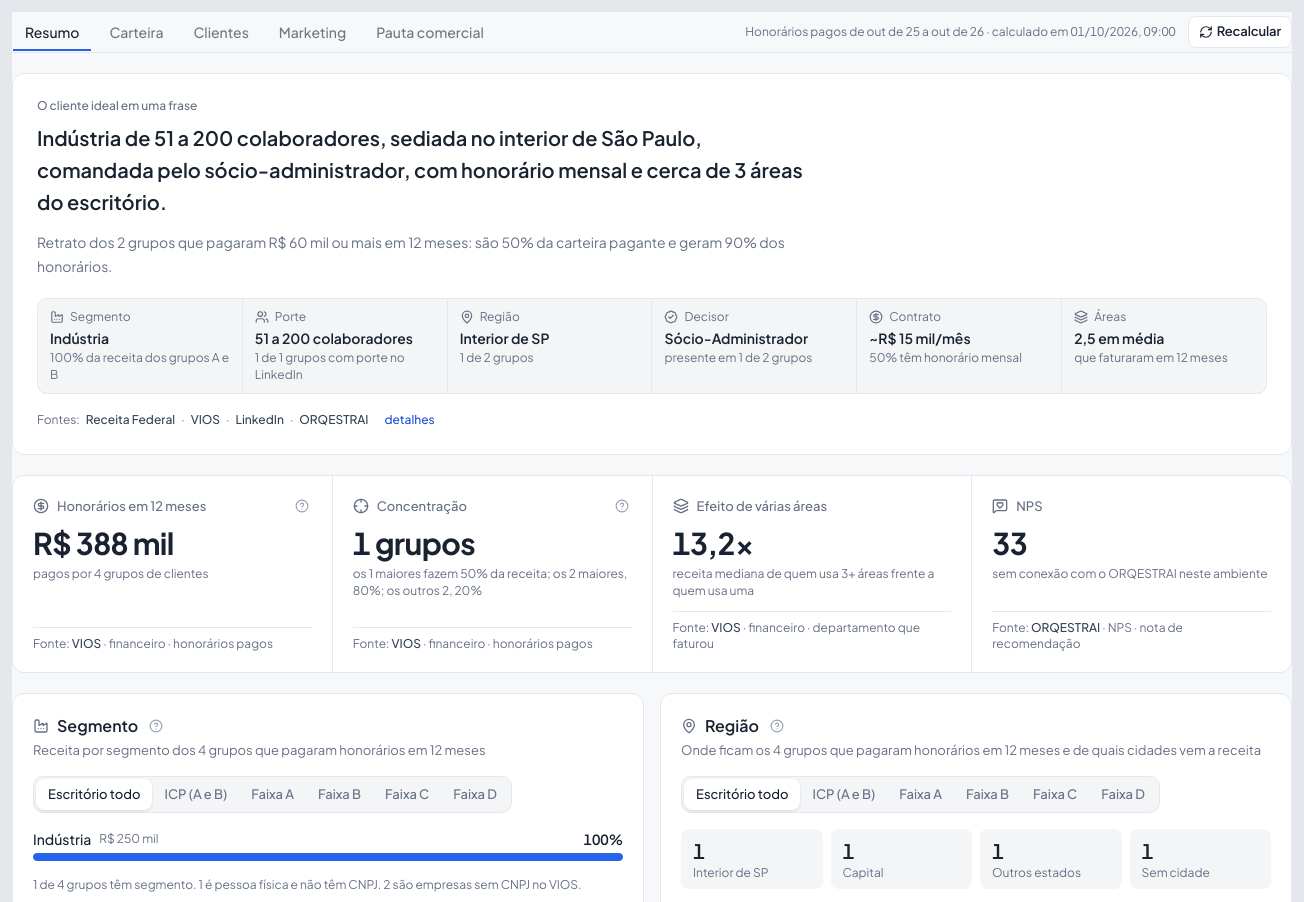
sem conexão com o ORQESTRAI, a aba Marketing avisa em vez de mostrar painéis vazios
The width and height of the screenshot is (1304, 902).
Expected: the text "sem conexão com o ORQESTRAI neste ambiente" is shown, [992,566,1268,581]
Click the tab "Marketing" at (312, 32), box [266,12,359,52]
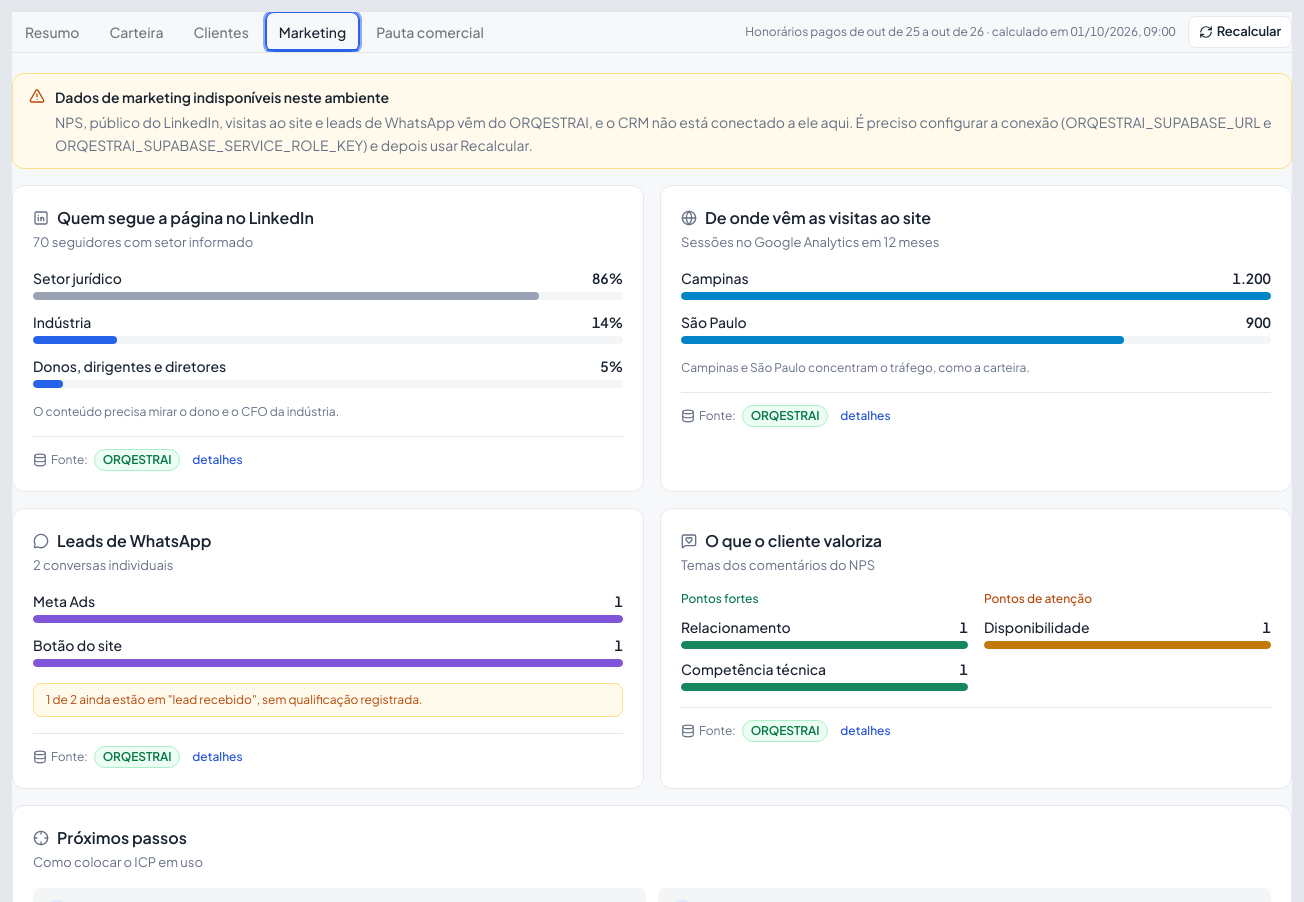
Expected: the message shows "Dados de marketing indisponíveis neste ambiente", [55,88,389,106]
